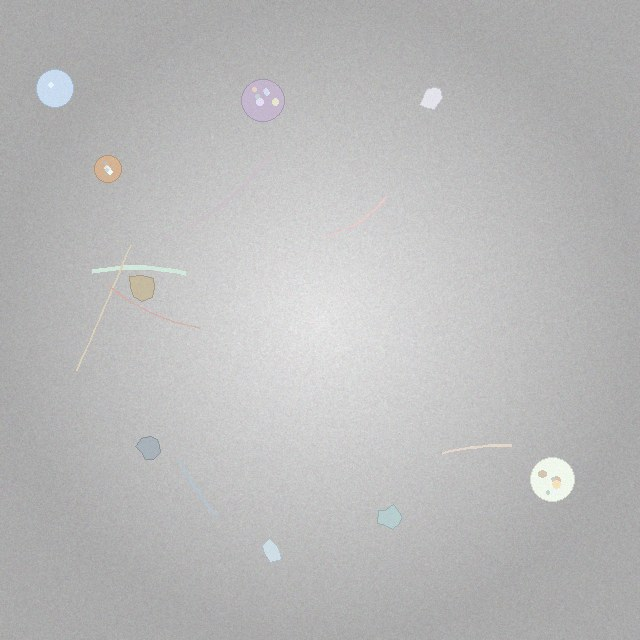fiber: (160, 145, 277, 242), (74, 243, 132, 373), (106, 283, 202, 330), (320, 195, 388, 240), (176, 459, 219, 518), (87, 262, 190, 279), (439, 442, 515, 457)
foam: (530, 457, 574, 501), (242, 79, 285, 122), (95, 156, 121, 182)
fragment: (130, 275, 154, 301), (378, 505, 402, 530), (135, 436, 161, 459), (419, 87, 443, 110), (263, 538, 281, 562)
pellet: (36, 70, 74, 108)
